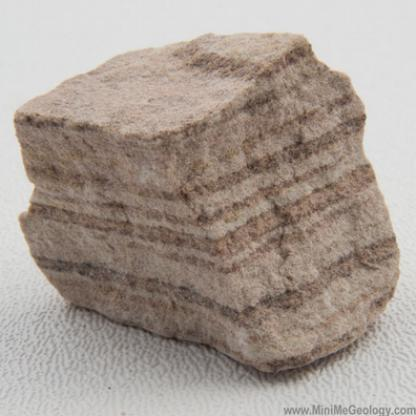Sedimentary_Sandstone: (13, 24, 401, 371)
